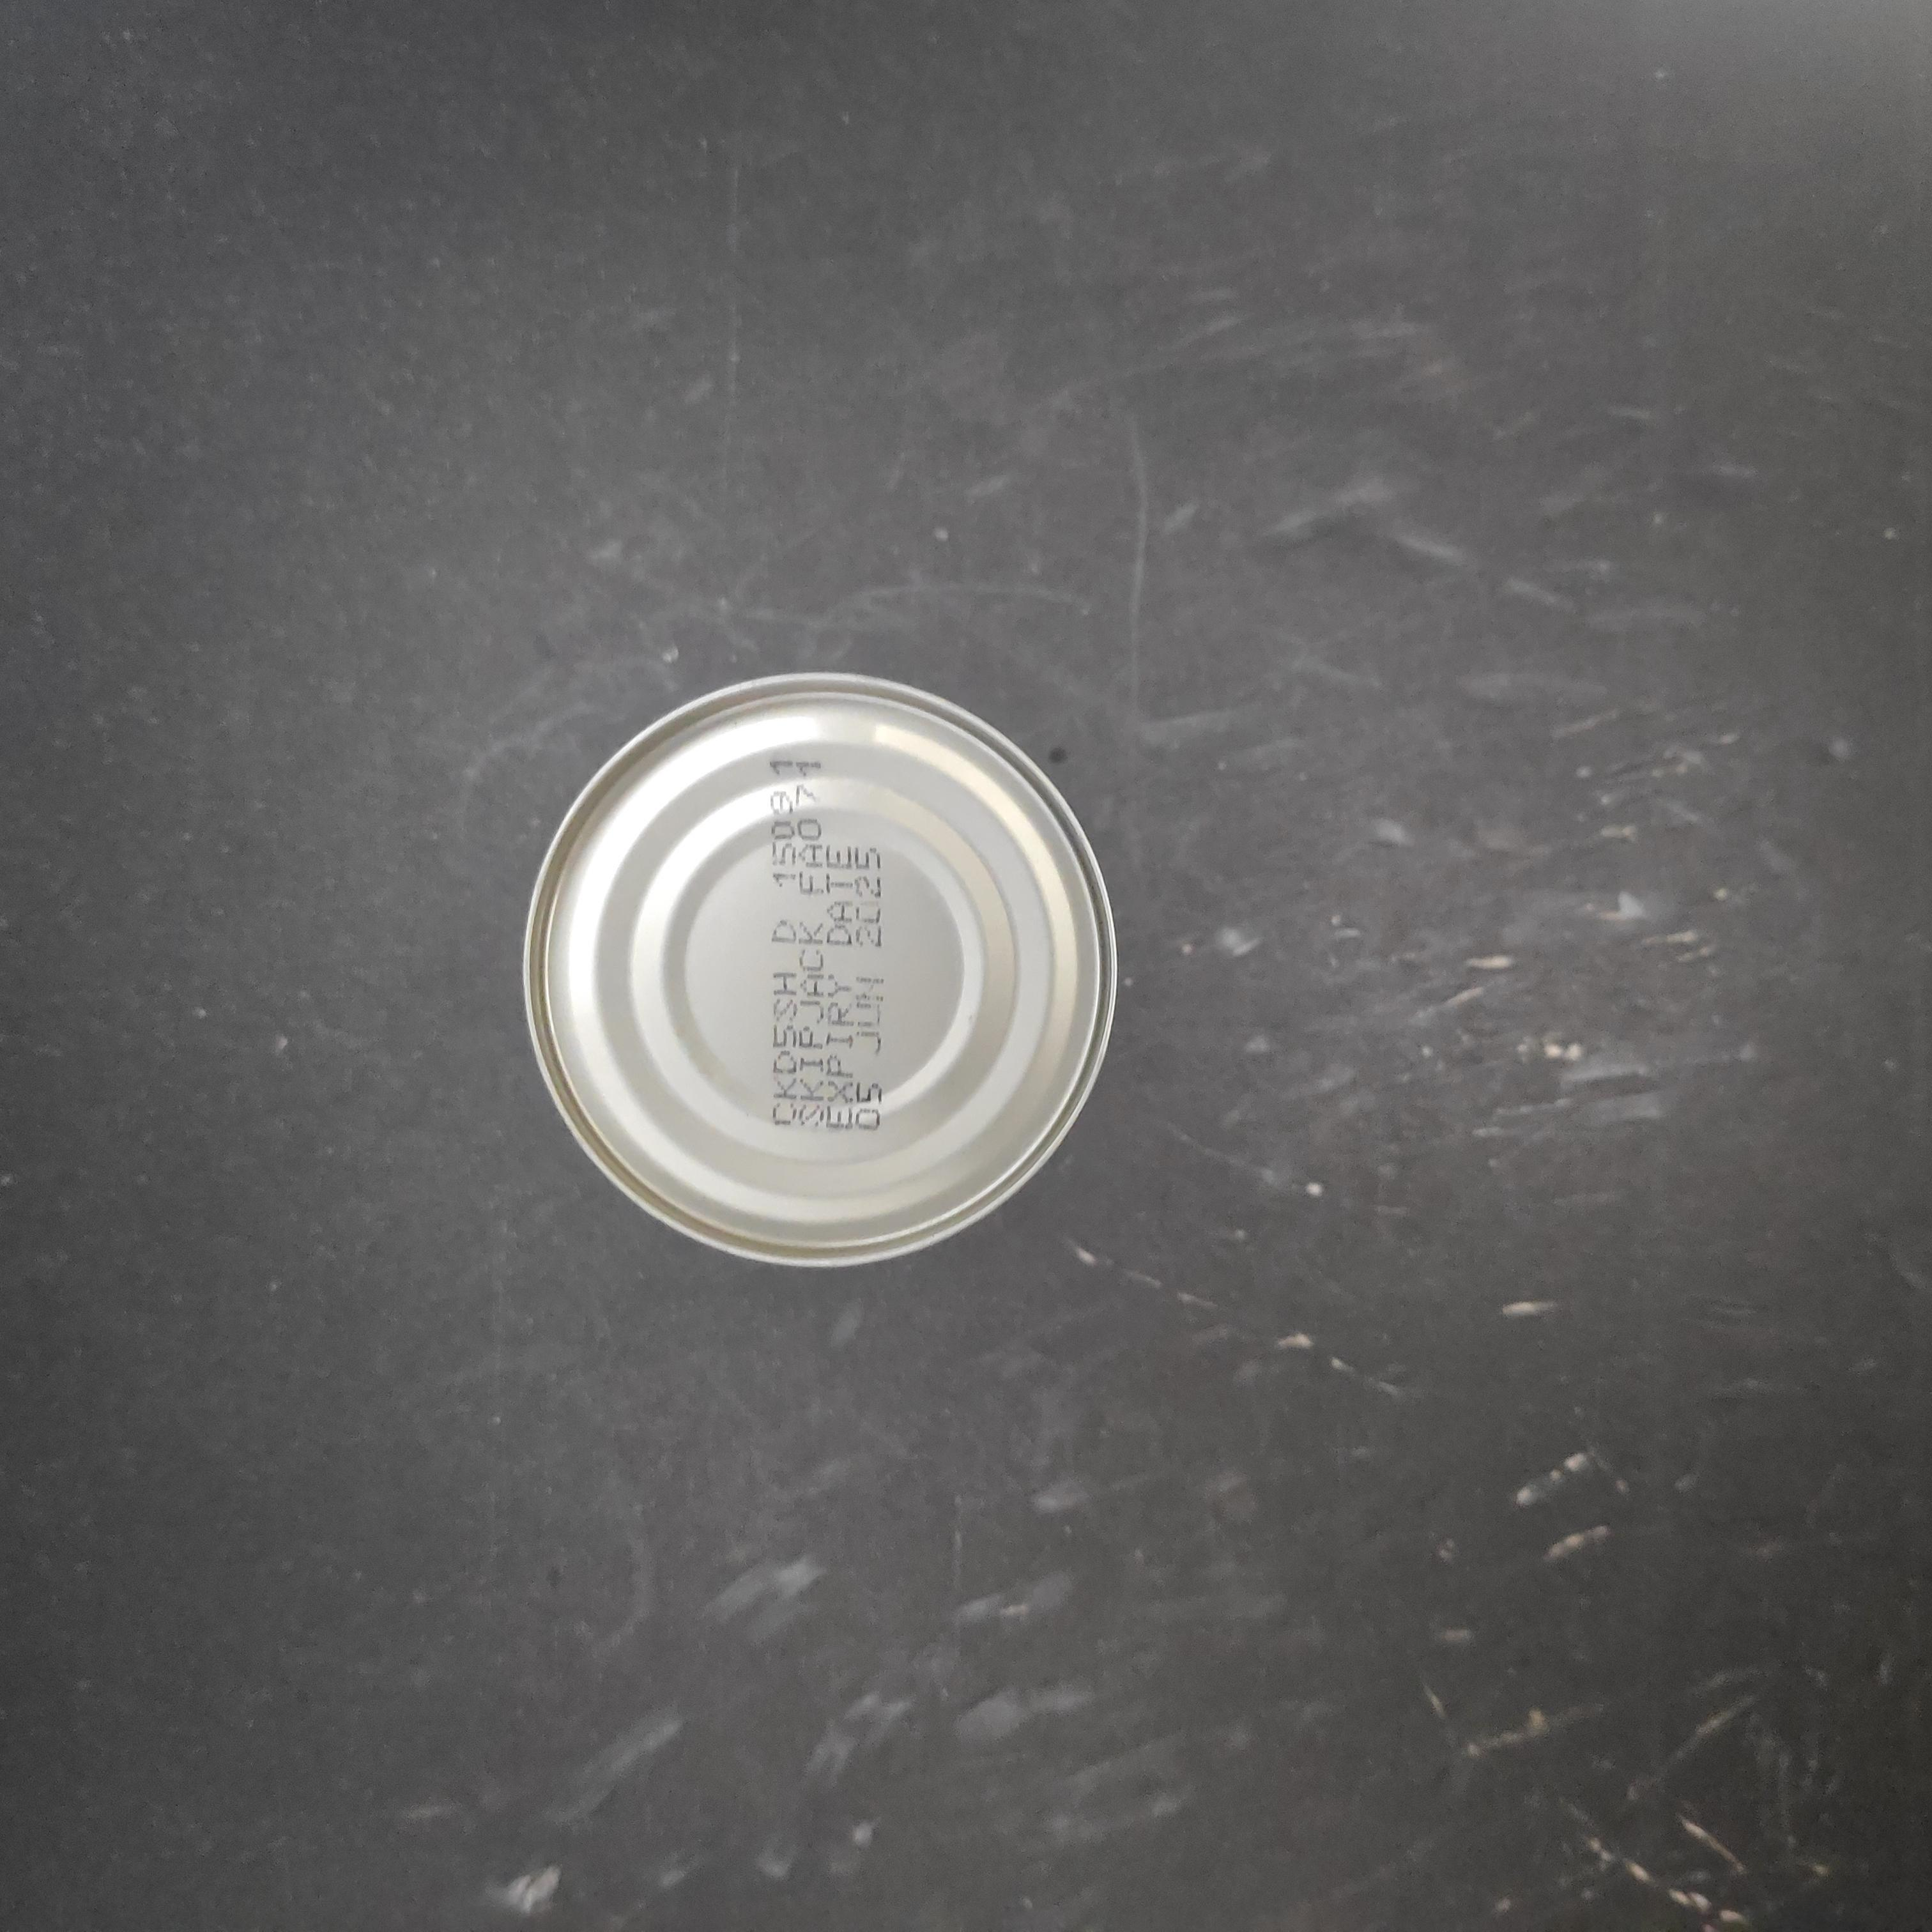No defect: (812, 663, 1412, 1263)
